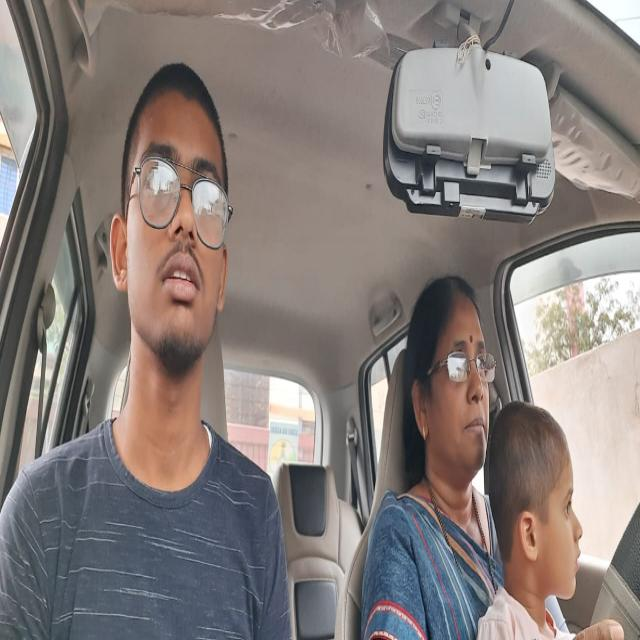child: (498, 417, 585, 610)
person: (119, 67, 232, 378), (412, 287, 492, 487)
